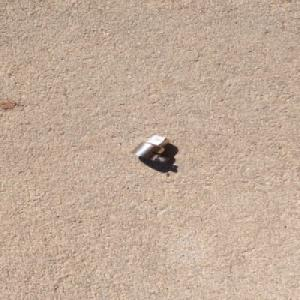MetalPart: (130, 134, 171, 164)
